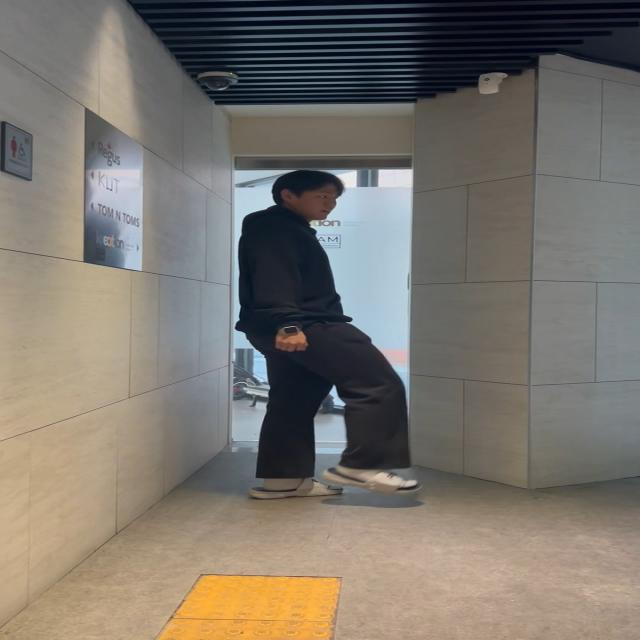leg: (311, 328, 425, 493)
